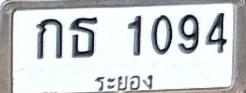0: (150, 14, 172, 55)
1: (127, 14, 142, 56)
4: (204, 12, 226, 53)
9: (178, 13, 199, 54)
A01: (36, 18, 63, 60)
A24: (69, 16, 98, 58)
RYG: (89, 72, 157, 91)
